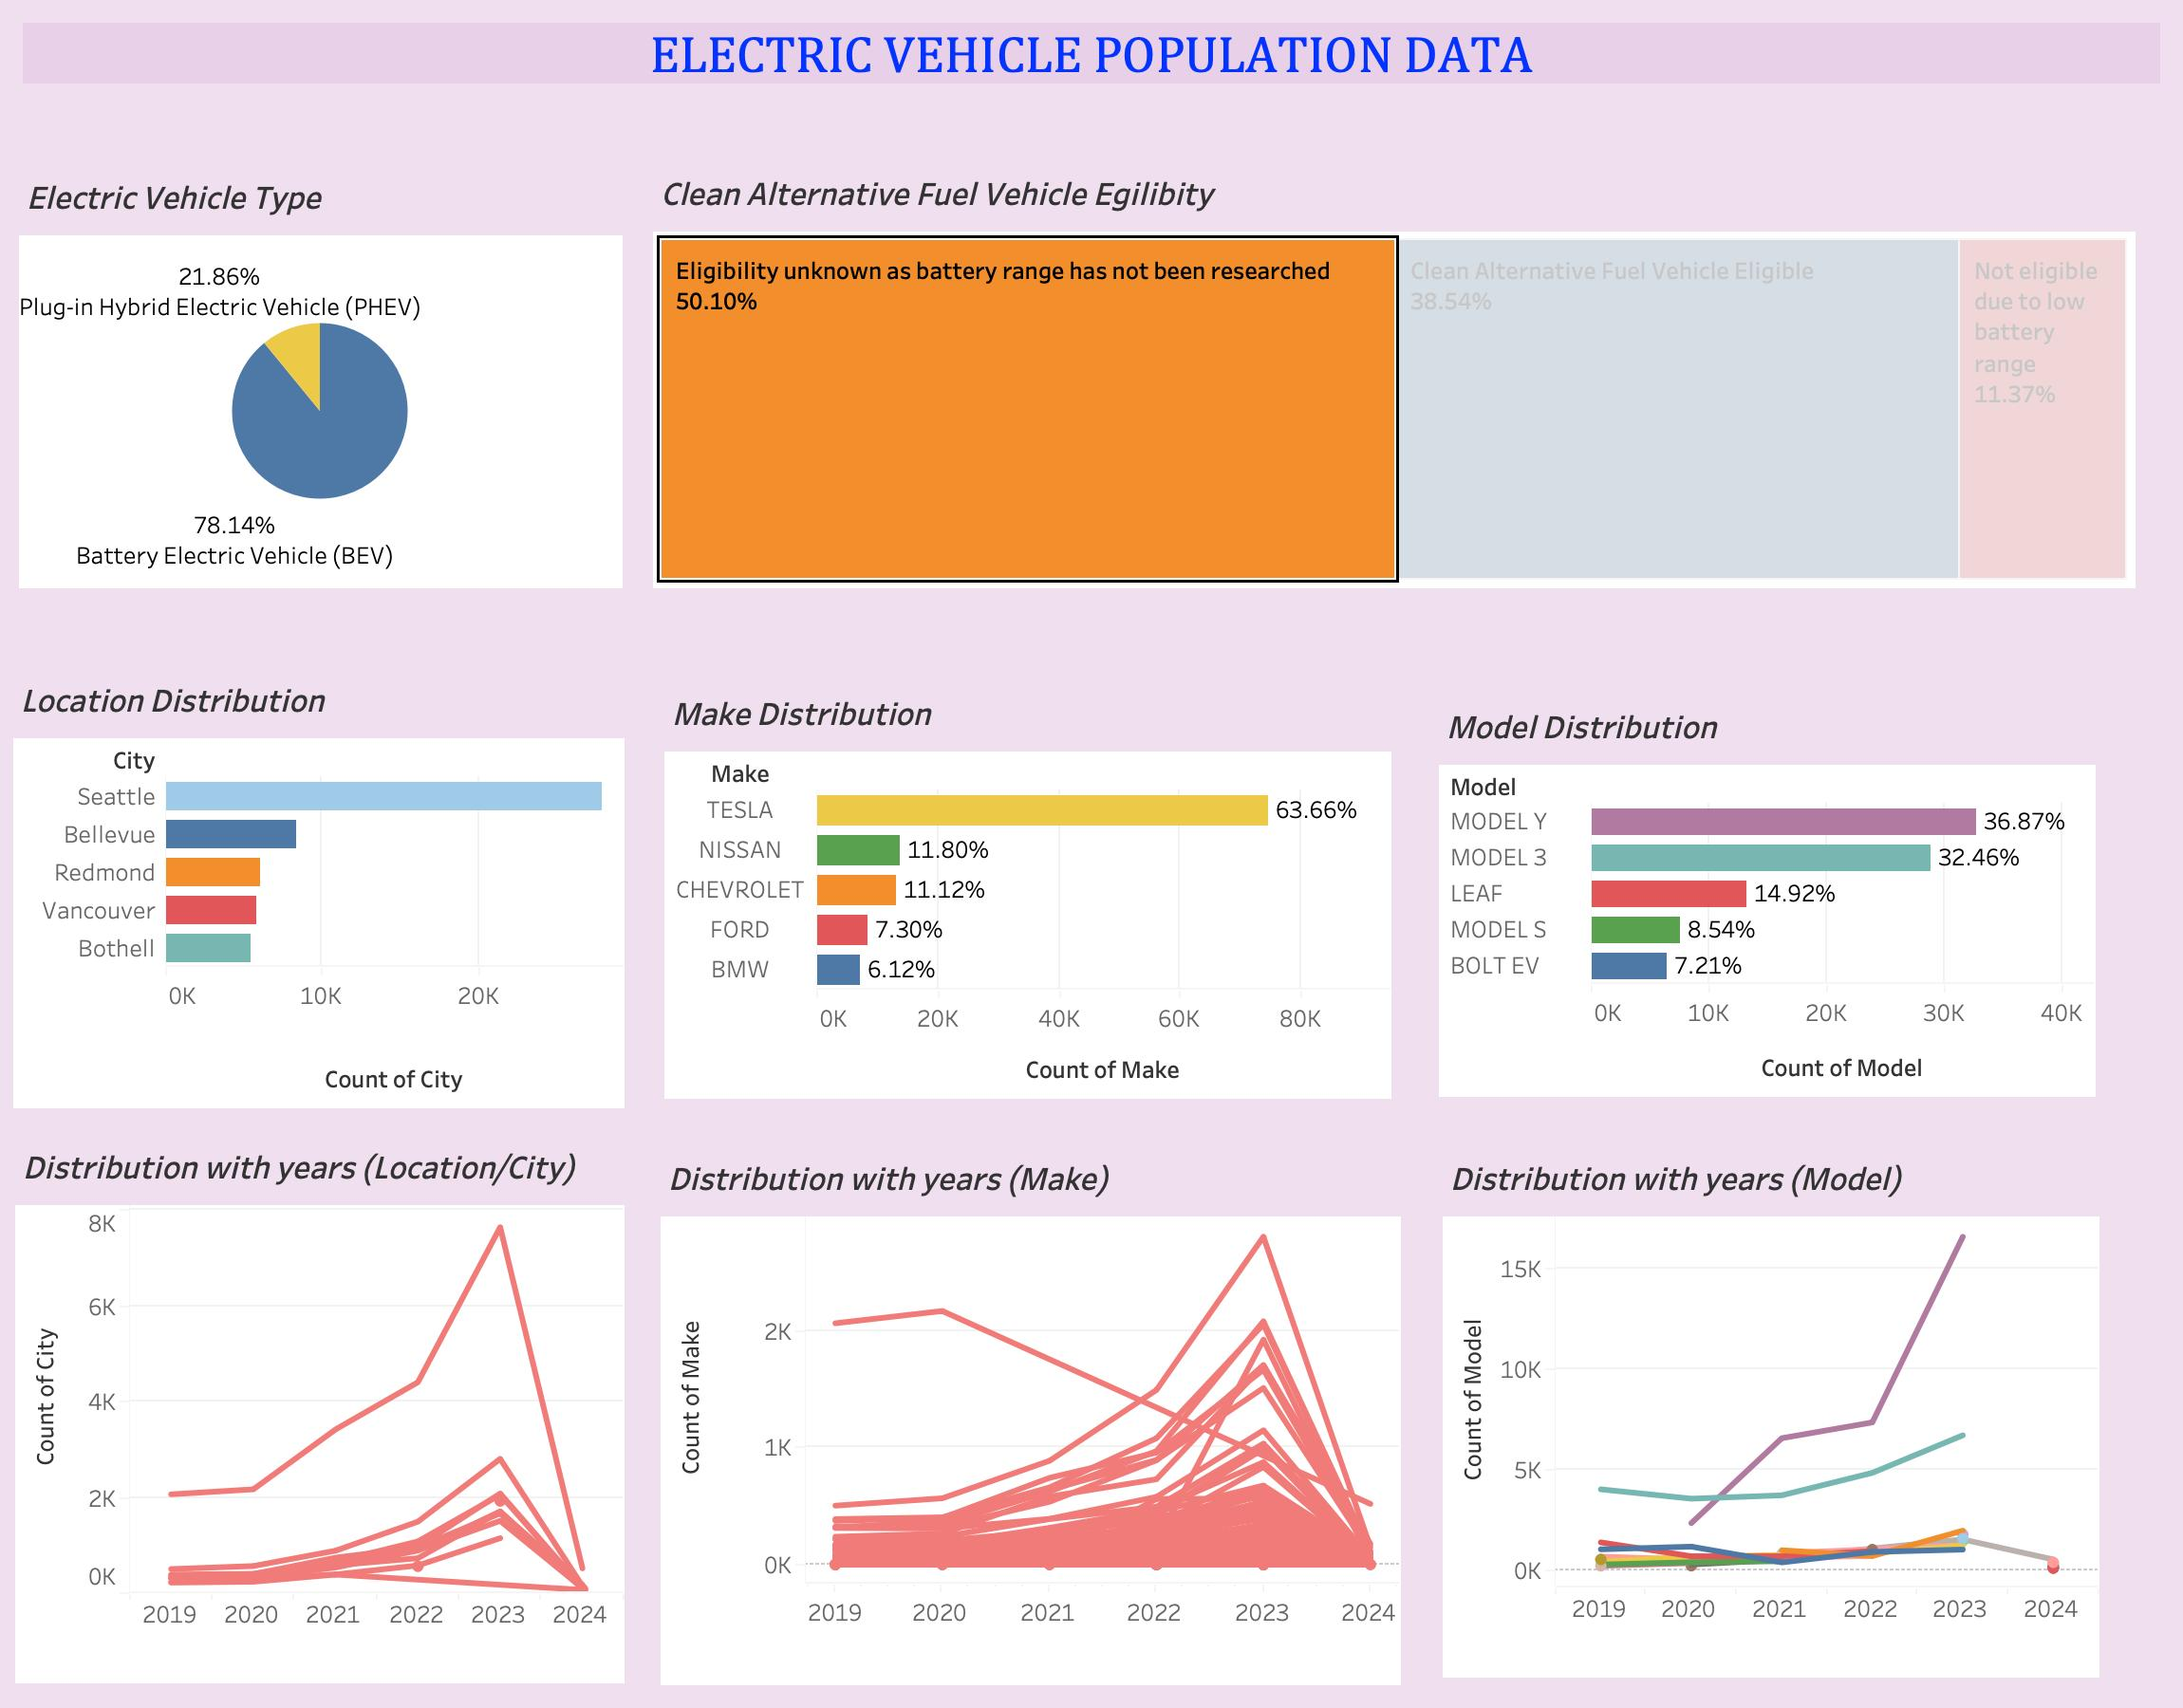

Layout of this report page (visuals, bound fields, positions):
{"tool":"tableau","page":{"name":"Dashboard 1","canvas":[1150,900],"ordinal":0},"visuals":[{"type":"title","box":[8,8,1134,40]},{"type":"worksheet","title":"Sheet 3","mark":"Automatic","box":[344,85,802,276]},{"type":"worksheet","title":"Sheet 2","mark":"Pie","box":[10,87,345,262]},{"type":"worksheet","title":"Sheet 4","mark":"Automatic","rows":["City"],"cols":["City"],"box":[7,352,348,532]},{"type":"worksheet","title":"Sheet 7","mark":"Bar","rows":["Make"],"cols":["Make"],"box":[350,359,389,272]},{"type":"worksheet","title":"Sheet 8","mark":"Automatic","rows":["Model"],"cols":["Model"],"box":[758,366,393,266]},{"type":"worksheet","title":"Sheet 5","mark":"Automatic","rows":["City"],"cols":["Model Year"],"box":[8,598,320,289]},{"type":"worksheet","title":"Sheet 6","mark":"Automatic","rows":["Make"],"cols":["Model Year"],"box":[348,604,389,284]},{"type":"worksheet","title":"Sheet 9","mark":"Automatic","rows":["Model"],"cols":["Model Year"],"box":[760,604,345,280]}]}

Visuals, with their boxes in screenshot pixels (x1, y1, x2, y2), scaled from the page's 1150x900 canvas onto the 2183x1708 screenshot:
title: [15, 15, 2168, 91]
"Sheet 3" worksheet: [653, 161, 2175, 685]
"Sheet 2" worksheet (Pie marks): [19, 165, 674, 662]
"Sheet 4" worksheet: [13, 668, 674, 1678]
"Sheet 7" worksheet (Bar marks): [664, 681, 1403, 1197]
"Sheet 8" worksheet: [1439, 695, 2182, 1199]
"Sheet 5" worksheet: [15, 1135, 623, 1683]
"Sheet 6" worksheet: [661, 1146, 1399, 1685]
"Sheet 9" worksheet: [1443, 1146, 2098, 1678]
